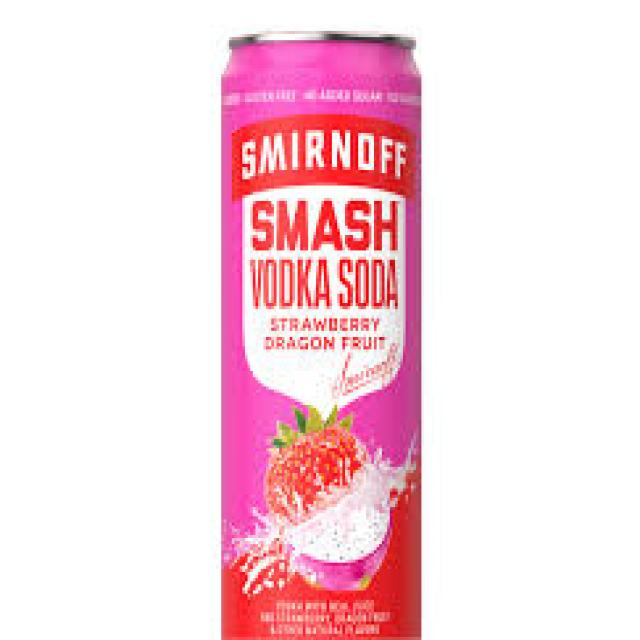Cans: (210, 18, 434, 640)
